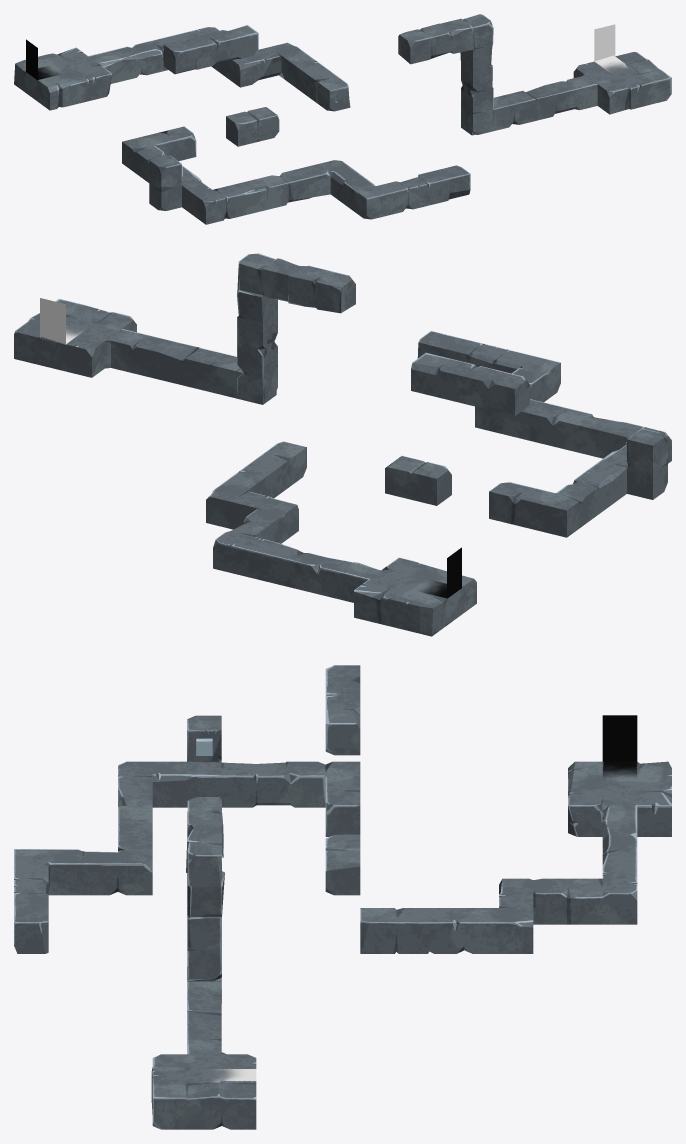
The model's file is Lucid_Tutorial.fbx.
The picture shows the model from 3 angles, top to bottom: view 1: azimuth 30°, elevation 25°; view 2: azimuth 150°, elevation 25°; view 3: azimuth 270°, elevation 25°; orthographic projection. The views are drawn at different scales.
Visible parts, largest first — view 1: Static_Piece, Moving_Piece, Button, Exit, Entrance; view 2: Static_Piece, Moving_Piece, Button, Exit, Entrance; view 3: Static_Piece, Moving_Piece, Entrance, Button.
Boxes of the visible parts, x1,y1,x2,y2 form: Static_Piece: (14, 25, 671, 224); Moving_Piece: (398, 14, 493, 135); Button: (149, 155, 182, 190); Exit: (594, 24, 615, 61); Entrance: (26, 39, 37, 80); Static_Piece: (14, 299, 671, 636); Moving_Piece: (237, 253, 355, 404); Button: (626, 428, 667, 472); Exit: (40, 298, 65, 344); Entrance: (447, 547, 461, 598); Static_Piece: (14, 665, 671, 1129); Moving_Piece: (186, 797, 224, 1003); Entrance: (602, 715, 637, 761); Button: (187, 715, 221, 761).
Size of the model in its own units: 24 by 5 by 19.
Materials: 5 (3 with a texture image).
